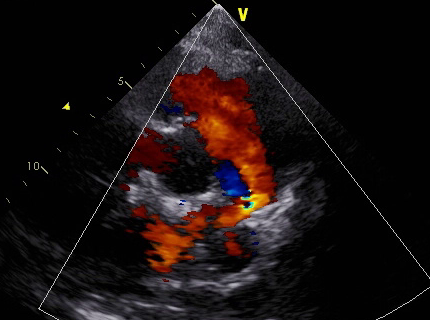PR: (191, 77, 297, 230)
